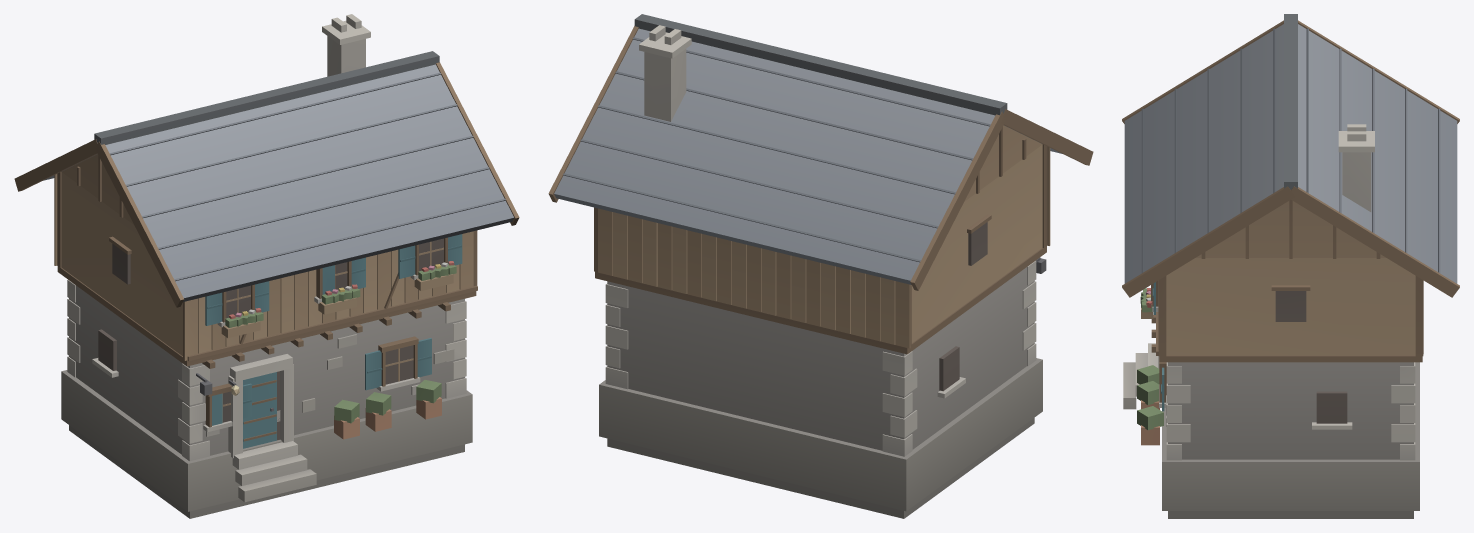
The model's file is vl_house_c.glb.
3 views of the same model, side by side, from view 1: azimuth 30°, elevation 25°; view 2: azimuth 150°, elevation 25°; view 3: azimuth 270°, elevation 25° (orthographic). The views are drawn at different scales.
Parts seen in each view (by area): view 1: vl_house_c; view 2: vl_house_c; view 3: vl_house_c.
Boxes of the visible parts, x1,y1,x2,y2 form: vl_house_c: [14, 14, 519, 518]; vl_house_c: [548, 14, 1093, 518]; vl_house_c: [1122, 14, 1459, 518].
Bounding box in the file's own units: 10.36 × 10.81 × 8.78.
